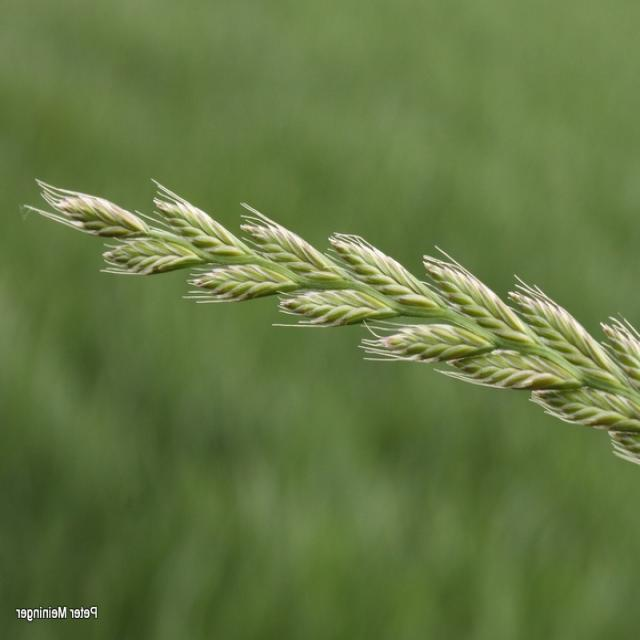Lolium: (18, 172, 640, 470)
